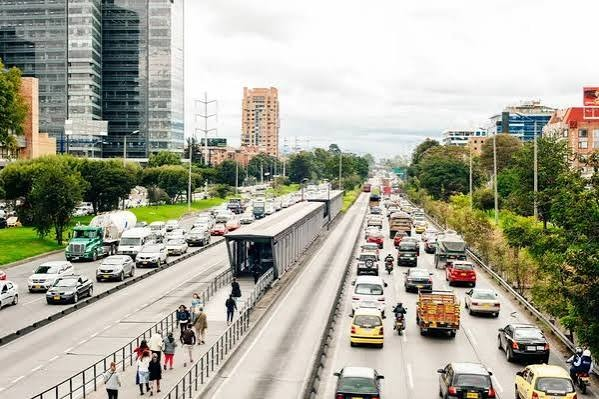car: (138, 170, 585, 399), (9, 189, 464, 368), (296, 156, 582, 392), (298, 178, 506, 336), (228, 236, 275, 288), (439, 364, 497, 398), (416, 294, 461, 337), (501, 329, 551, 363), (33, 271, 81, 300), (333, 371, 382, 399), (347, 278, 387, 312), (523, 373, 577, 398), (45, 278, 90, 304), (440, 260, 475, 289)
